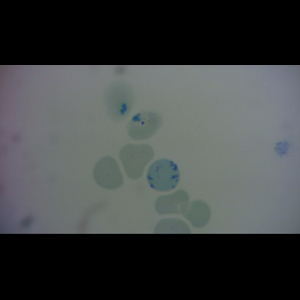aggregate reticulocyte: (146, 158, 181, 193)
erythrocyte: (119, 143, 156, 181), (92, 156, 125, 190), (125, 110, 162, 140), (179, 198, 212, 229), (153, 190, 190, 216)
